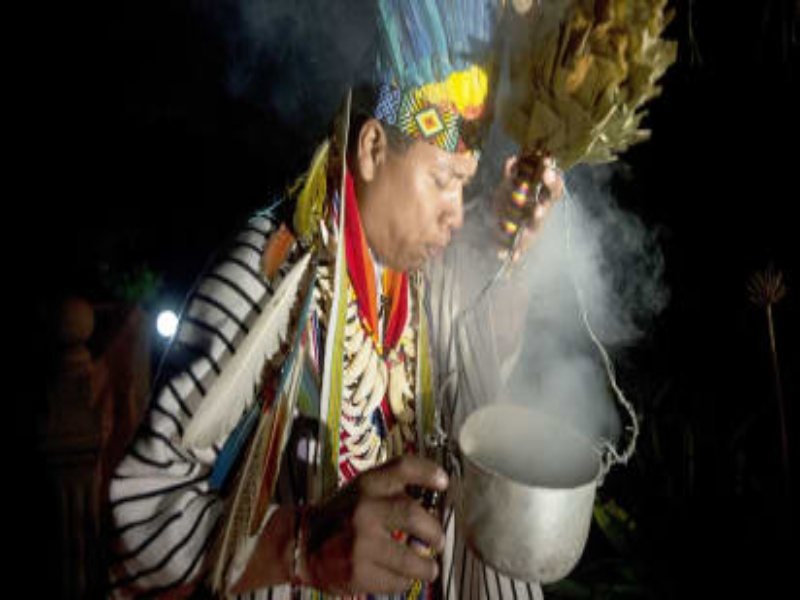smoke: (452, 150, 632, 433)
